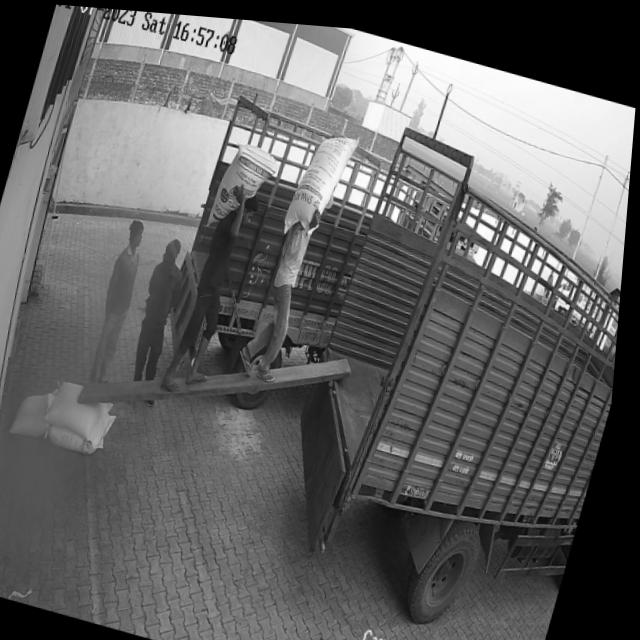sack: (284, 118, 362, 241), (210, 134, 284, 237), (48, 375, 122, 441), (49, 395, 124, 457), (15, 386, 65, 442)
